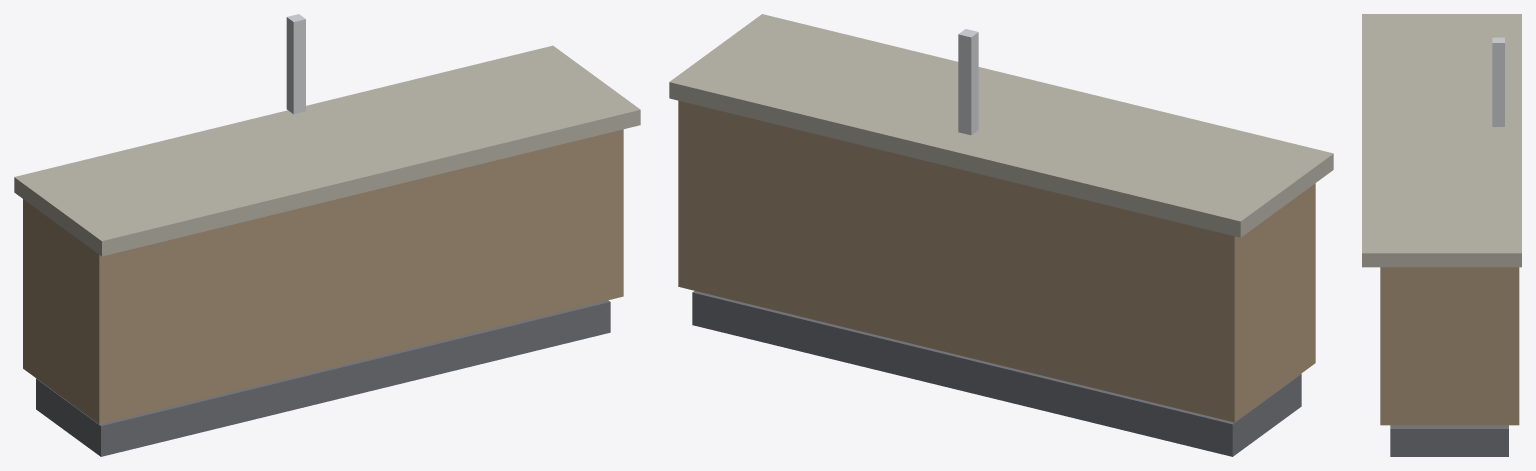
Rendered from mov_e5792c8109.gltf.
The picture shows the model from 3 angles, left to right: view 1: azimuth 30°, elevation 25°; view 2: azimuth 150°, elevation 25°; view 3: azimuth 270°, elevation 25°; orthographic projection. The views are drawn at different scales.
Parts seen in each view (by area): view 1: mov_e5792c8109; view 2: mov_e5792c8109; view 3: mov_e5792c8109.
Boxes of the visible parts, bbox=[...] form: mov_e5792c8109: bbox=[14, 14, 640, 456]; mov_e5792c8109: bbox=[669, 14, 1333, 456]; mov_e5792c8109: bbox=[1362, 14, 1521, 456].
Bounding box in the file's own units: 2.2 × 1.3 × 0.62.
